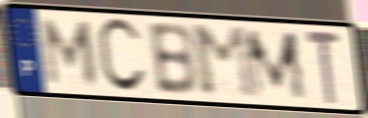B: (145, 21, 201, 99)
C: (95, 16, 150, 97)
M: (187, 24, 261, 102), (242, 28, 310, 102), (41, 16, 100, 87)
T: (303, 28, 345, 107)
